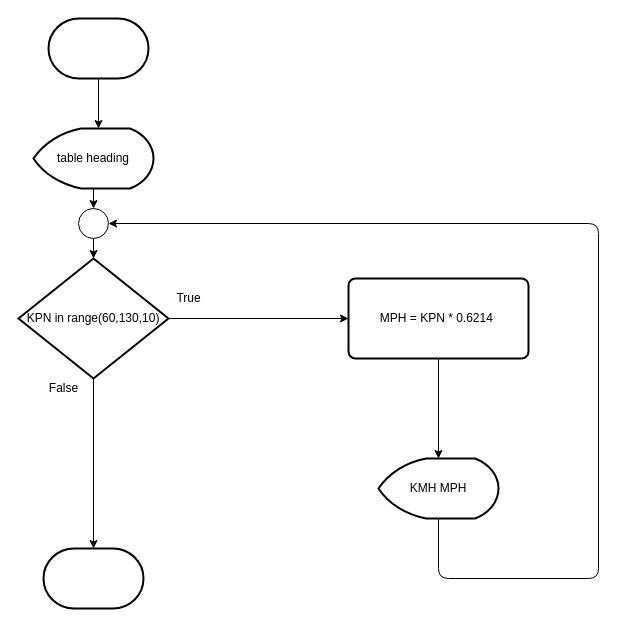
Some shapes in this 624 by 626 pixel diagram are drawn without their labels. Each missing label, with the centre of its shape:
END: point 93,578
start: point 98,48
